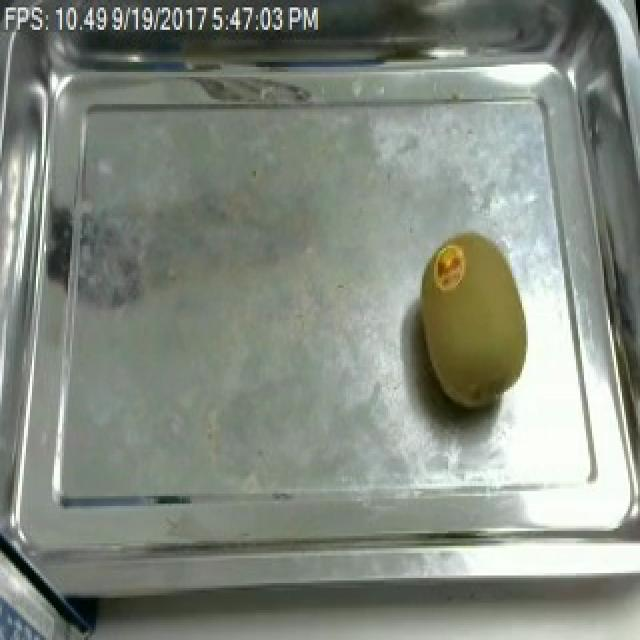Fruit: (406, 223, 540, 419)
